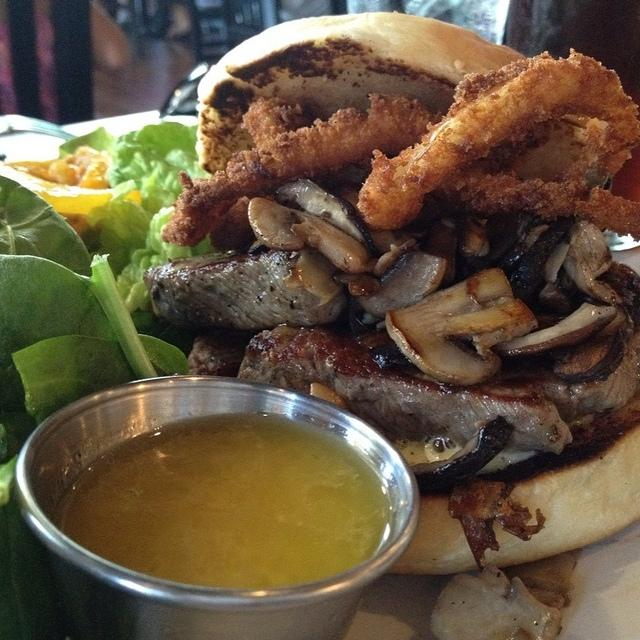lettuce: (1, 254, 159, 382), (11, 334, 138, 427), (0, 452, 59, 640), (1, 175, 92, 278), (115, 262, 151, 314), (58, 127, 114, 158)
mushroom: (385, 269, 538, 386), (248, 197, 378, 274), (275, 178, 381, 260), (410, 415, 514, 491), (356, 248, 447, 318), (495, 304, 617, 354), (333, 184, 412, 255), (296, 247, 382, 307), (562, 220, 622, 306), (488, 216, 552, 282), (552, 328, 624, 382), (467, 218, 518, 272), (421, 218, 458, 290), (538, 267, 578, 314), (372, 239, 417, 278), (454, 212, 489, 262), (310, 380, 350, 412)
